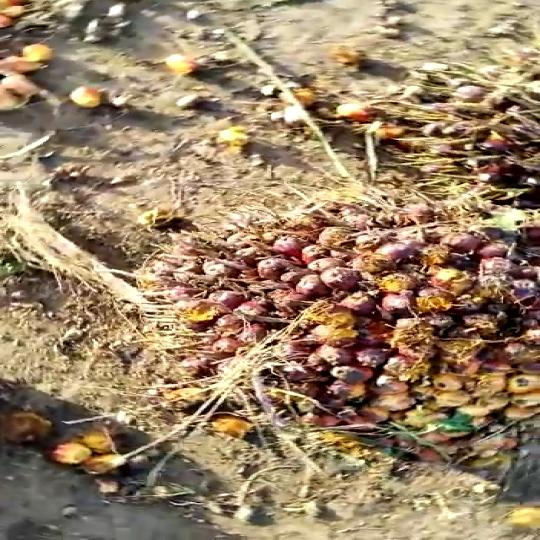masak: (151, 171, 540, 488)
